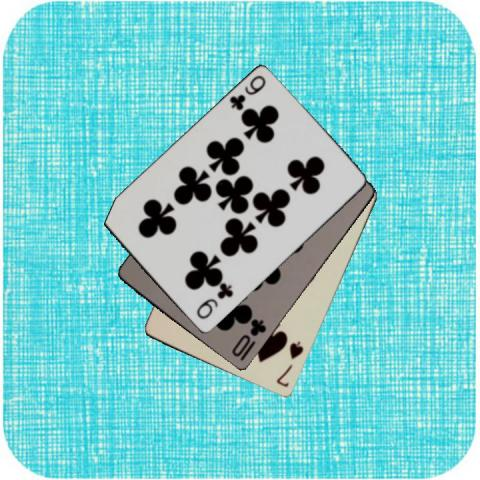10c: (229, 316, 268, 363)
7s: (274, 338, 306, 389)
9c: (193, 282, 235, 321), (226, 73, 267, 112)
